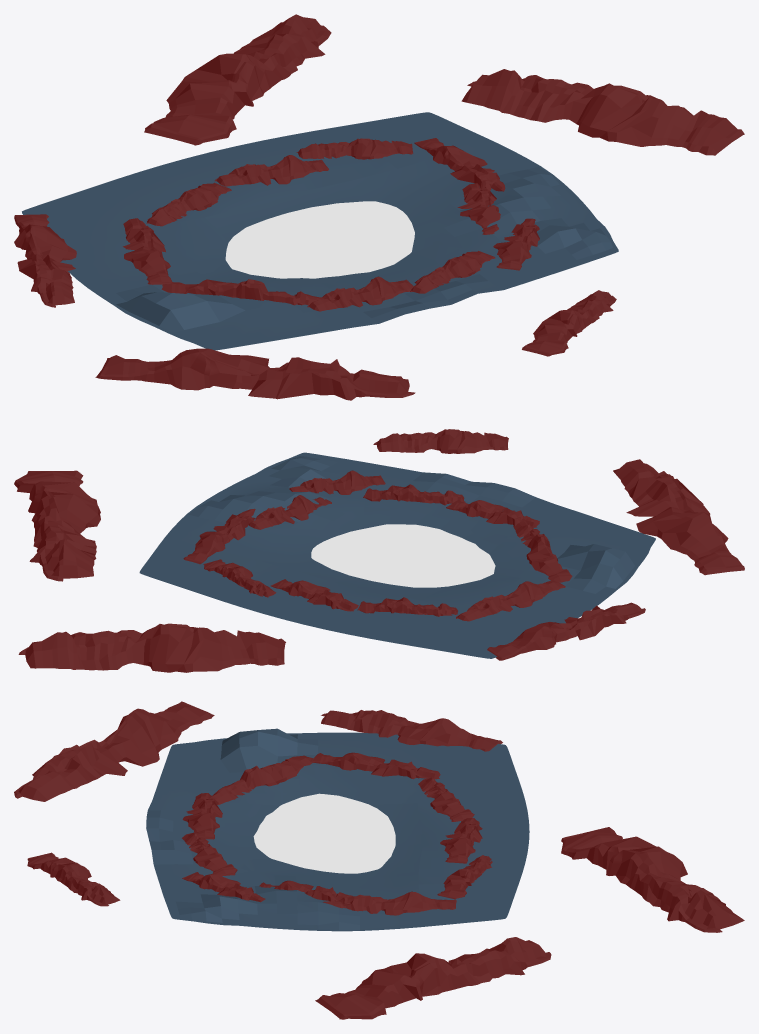
The model's file is LandScape.fbx.
3 views of the same model, one above another, from view 1: azimuth 30°, elevation 25°; view 2: azimuth 150°, elevation 25°; view 3: azimuth 270°, elevation 25° (orthographic). The views are drawn at different scales.
Parts seen in each view (by area): view 1: polySurface16, polySurface14, GridVisuals, polySurface15, polySurface13, polySurface12, polySurface11, polySurface3, polySurface5, polySurface6, polySurface7, polySurface1 (+5 smaller); view 2: polySurface16, polySurface15, GridVisuals, polySurface13, polySurface14, polySurface12, polySurface11, polySurface5, polySurface3, polySurface6, polySurface9, polySurface4 (+5 smaller); view 3: polySurface16, GridVisuals, polySurface14, polySurface15, polySurface13, polySurface12, polySurface11, polySurface6, polySurface3, polySurface5, polySurface7, polySurface1 (+5 smaller).
Part boxes in pixels (left/top/right/bottom): polySurface16: left=22, top=112, right=618, bottom=350; polySurface14: left=461, top=69, right=744, bottom=155; GridVisuals: left=225, top=201, right=414, bottom=278; polySurface15: left=144, top=14, right=331, bottom=145; polySurface13: left=95, top=348, right=415, bottom=400; polySurface12: left=14, top=214, right=76, bottom=307; polySurface11: left=522, top=290, right=616, bottom=356; polySurface3: left=161, top=279, right=323, bottom=305; polySurface5: left=123, top=218, right=172, bottom=284; polySurface6: left=414, top=138, right=505, bottom=191; polySurface7: left=215, top=155, right=328, bottom=186; polySurface1: left=307, top=276, right=413, bottom=311; polySurface16: left=139, top=452, right=655, bottom=658; polySurface15: left=18, top=623, right=285, bottom=672; GridVisuals: left=311, top=524, right=495, bottom=587; polySurface13: left=613, top=459, right=744, bottom=575; polySurface14: left=14, top=470, right=100, bottom=581; polySurface12: left=487, top=602, right=645, bottom=660; polySurface11: left=373, top=429, right=508, bottom=453; polySurface5: left=456, top=579, right=565, bottom=621; polySurface3: left=513, top=521, right=572, bottom=582; polySurface6: left=183, top=508, right=255, bottom=564; polySurface9: left=249, top=495, right=331, bottom=529; polySurface4: left=289, top=470, right=385, bottom=494; polySurface16: left=146, top=728, right=529, bottom=931; GridVisuals: left=253, top=793, right=395, bottom=873; polySurface14: left=315, top=937, right=551, bottom=1019; polySurface15: left=561, top=827, right=744, bottom=932; polySurface13: left=14, top=701, right=214, bottom=801; polySurface12: left=321, top=710, right=502, bottom=751; polySurface11: left=27, top=852, right=120, bottom=906; polySurface6: left=323, top=891, right=456, bottom=915; polySurface3: left=209, top=755, right=314, bottom=804; polySurface5: left=310, top=752, right=440, bottom=779; polySurface7: left=440, top=818, right=482, bottom=863; polySurface1: left=182, top=793, right=222, bottom=839.
Size of the model in its own units: 91231 by 3967 by 89398.
